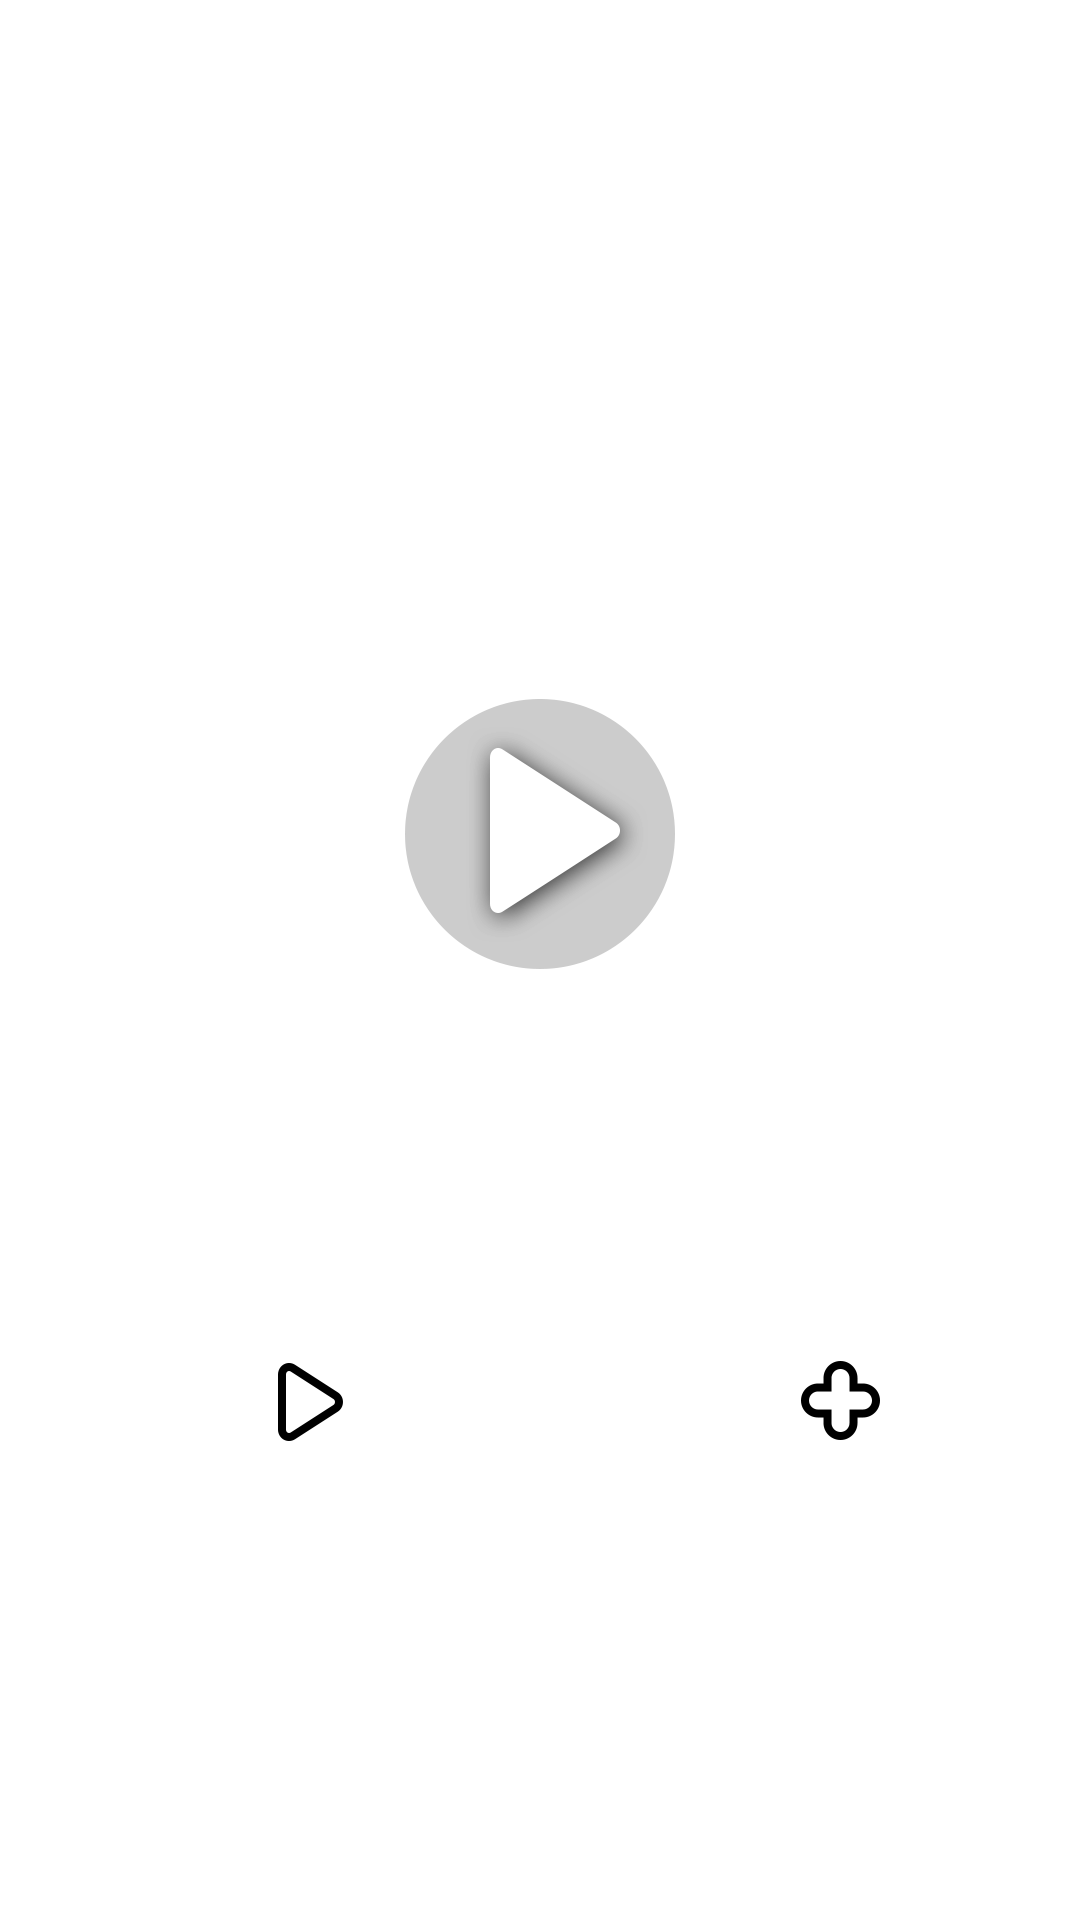

Icons on this 1080px x 1920px Android screen, each with the point to tap as (x,y):
playpopup addtoqueue: (840,1400)
playpopup playnow: (540,834)
